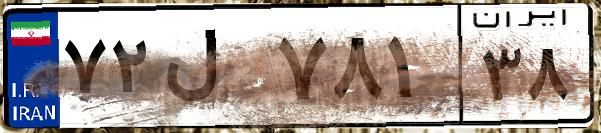1: (385, 28, 445, 110)
2: (110, 28, 158, 98)
3: (475, 38, 525, 113)
7: (270, 28, 330, 110), (57, 26, 110, 100)
8: (330, 28, 385, 110), (525, 38, 570, 115)
ل: (158, 20, 270, 120)
